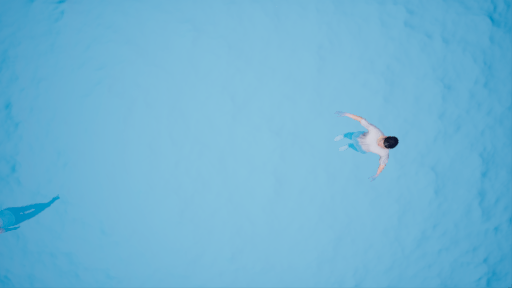person: (326, 107, 407, 182)
